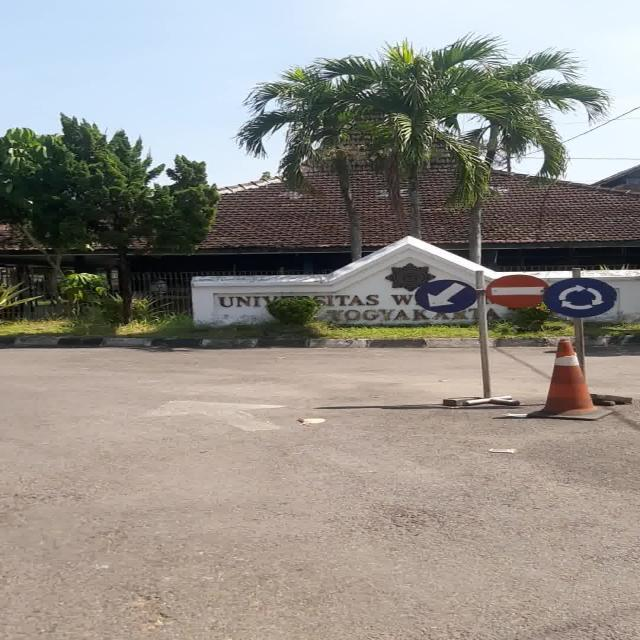Ikuti Bundaran: (544, 277, 616, 317)
Lajur Kiri: (415, 280, 477, 314)
